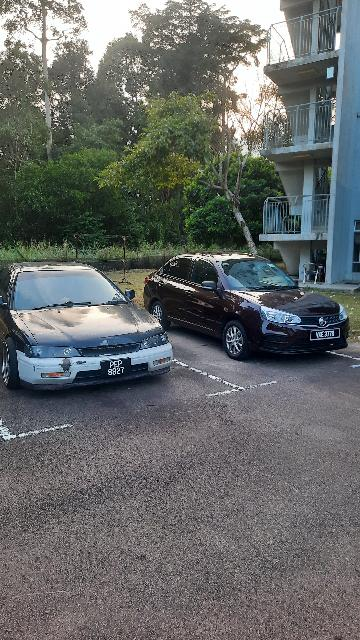License_Plate: (100, 359, 134, 379), (311, 328, 347, 342)
car: (142, 253, 360, 367), (2, 261, 185, 396)
